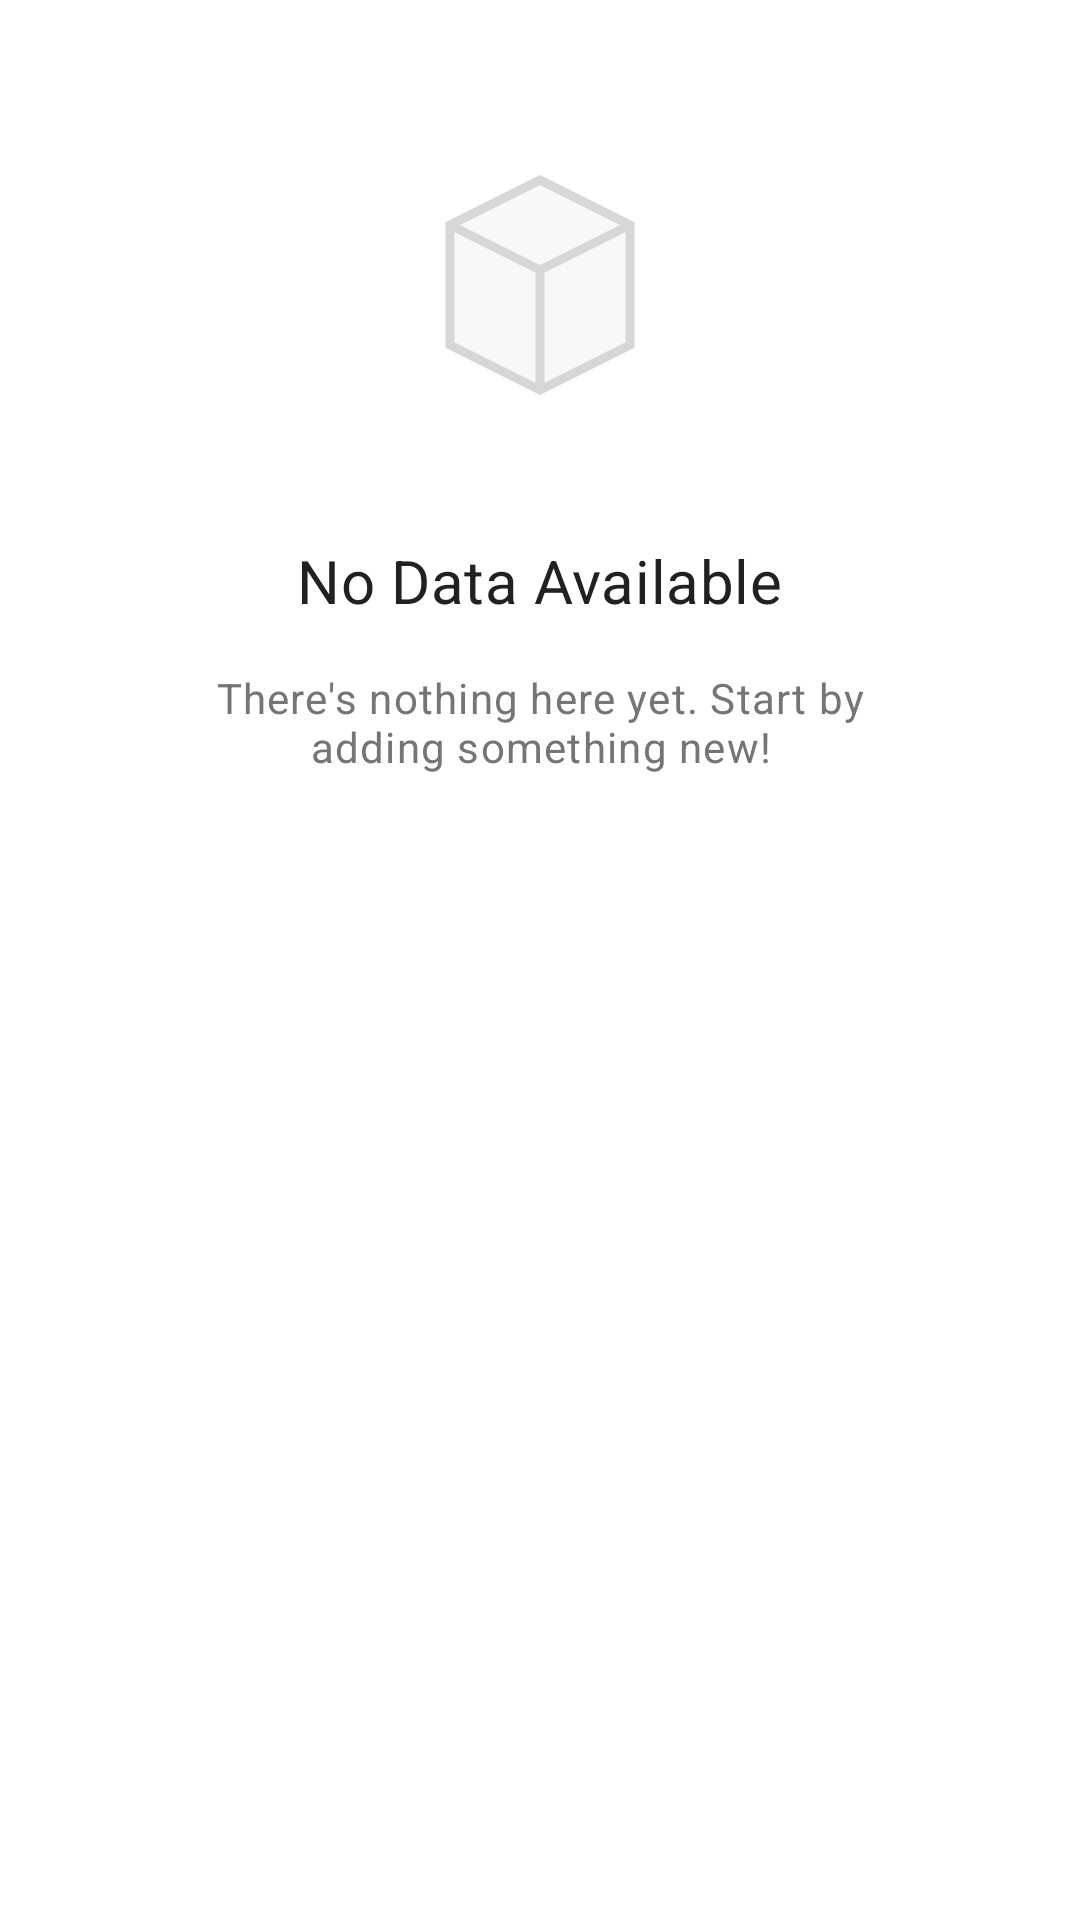

Screen size 1080×1920. Icon name, then its center in pixels as (x=x, y=y):
empty state: (x=540, y=285)
